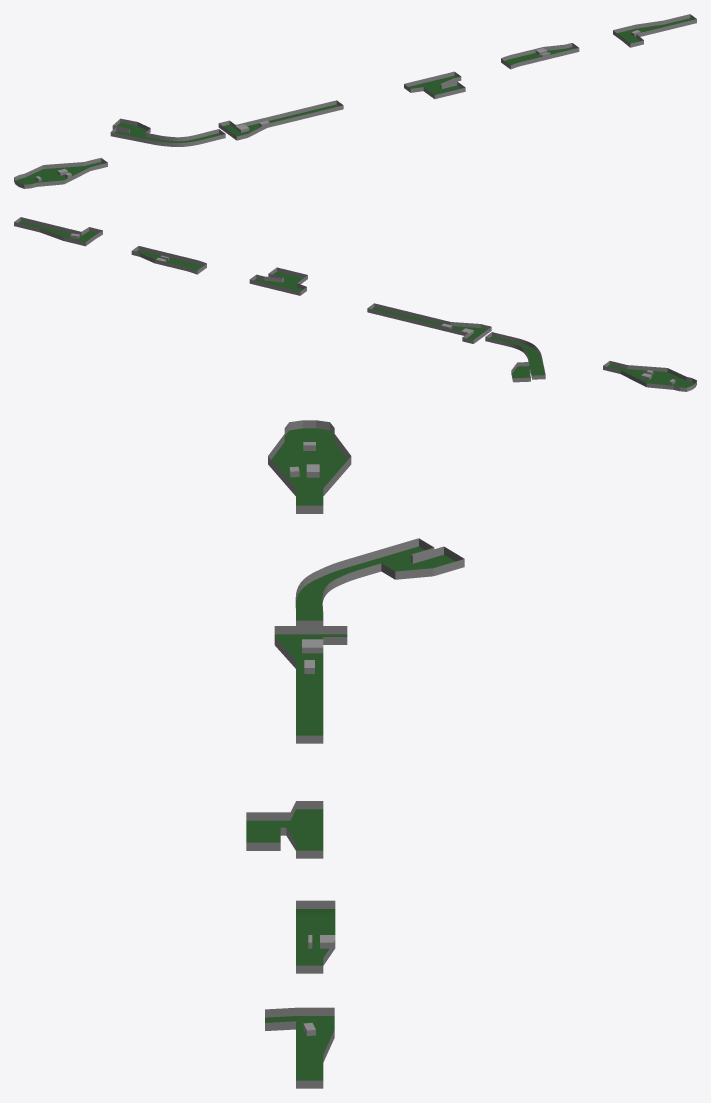
File: hand-crafted-course.FBX
The picture shows the model from 3 angles, top to bottom: view 1: azimuth 30°, elevation 25°; view 2: azimuth 150°, elevation 25°; view 3: azimuth 270°, elevation 25°; orthographic projection. The views are drawn at different scales.
Parts seen in each view (by area): view 1: Reverse (×5), Hole6, Hole4, Hole5, Hole1, Hole3, Hole2; view 2: Hole4, Hole6, Reverse (×4), Hole5, Hole1, Hole3, Hole2; view 3: Hole5, Hole6, Reverse (×4), Hole4, Hole3, Hole1, Hole2.
Boxes of the visible parts, x1,y1,x2,y2 form: Reverse (×5): (14,14,696,188); Hole6: (14,158,107,188); Hole4: (218,100,343,140); Hole5: (110,118,225,146); Hole1: (613,14,696,47); Hole3: (404,71,465,98); Hole2: (501,43,579,69); Hole4: (367,303,491,343); Hole6: (603,361,696,391); Reverse (×4): (14,217,696,390); Hole5: (485,332,545,382); Hole1: (14,217,102,246); Hole3: (249,267,307,295); Hole2: (131,246,206,274); Hole5: (295,538,464,625); Hole6: (268,420,351,513); Reverse (×4): (246,420,464,858); Hole4: (274,626,347,743); Hole3: (246,801,323,858); Hole1: (265,1007,334,1088); Hole2: (296,900,335,973).
Bounding box in the file's own units: 86.14 × 0.6229 × 12.04.
